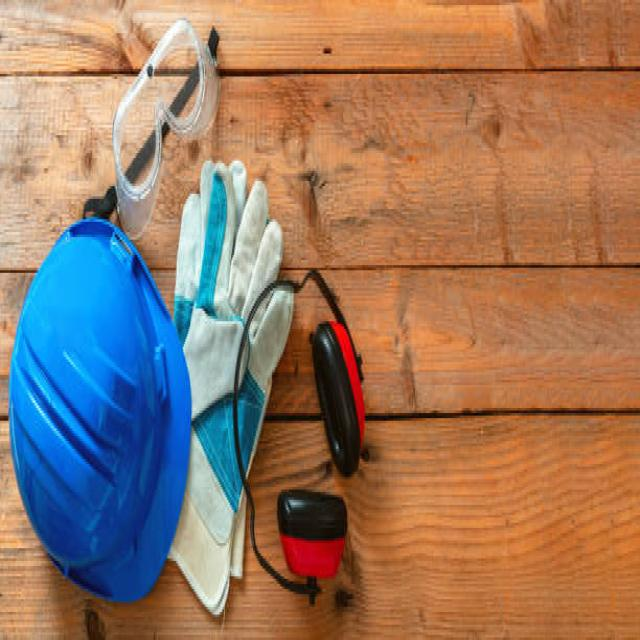Gloves: (154, 155, 297, 640)
helmet: (8, 212, 196, 614)
